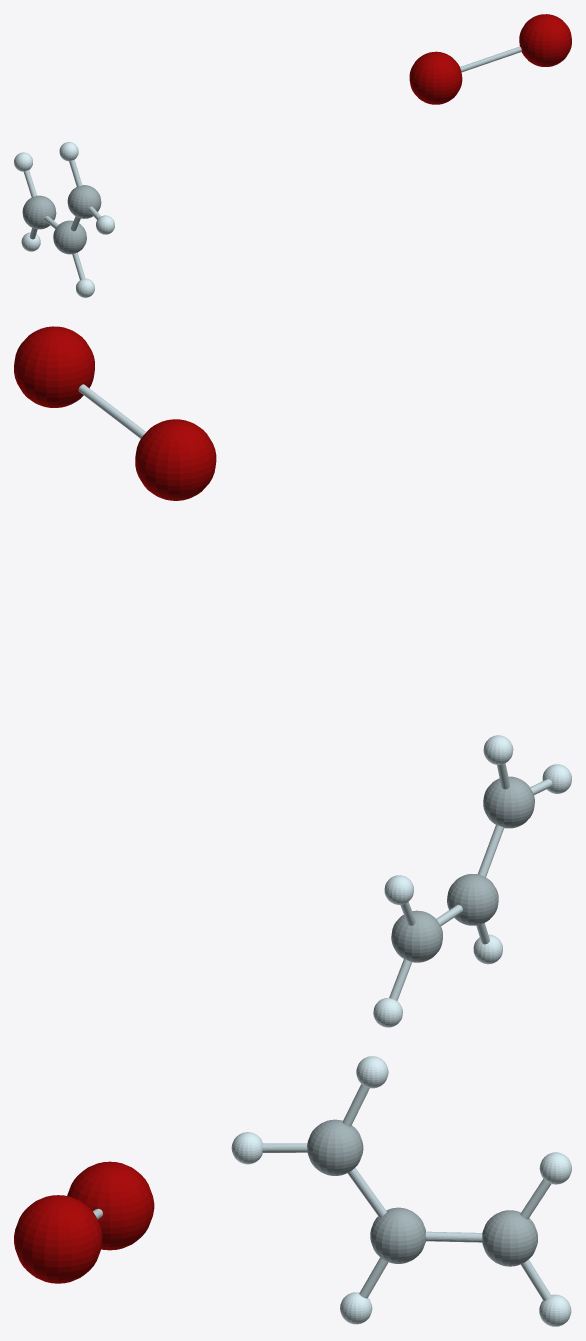
File: irc_step_088.glb
3 views of the same model, one above another, from view 1: azimuth 30°, elevation 25°; view 2: azimuth 150°, elevation 25°; view 3: azimuth 270°, elevation 25° (orthographic). The views are drawn at different scales.
Visible parts, largest first — view 1: Renderer Node; view 2: Renderer Node; view 3: Renderer Node.
Boxes of the visible parts, x1,y1,x2,y2 form: Renderer Node: [14, 14, 571, 297]; Renderer Node: [14, 326, 571, 1027]; Renderer Node: [14, 1056, 571, 1326].
Size of the model in its own units: 9.93 by 5.83 by 6.91.
